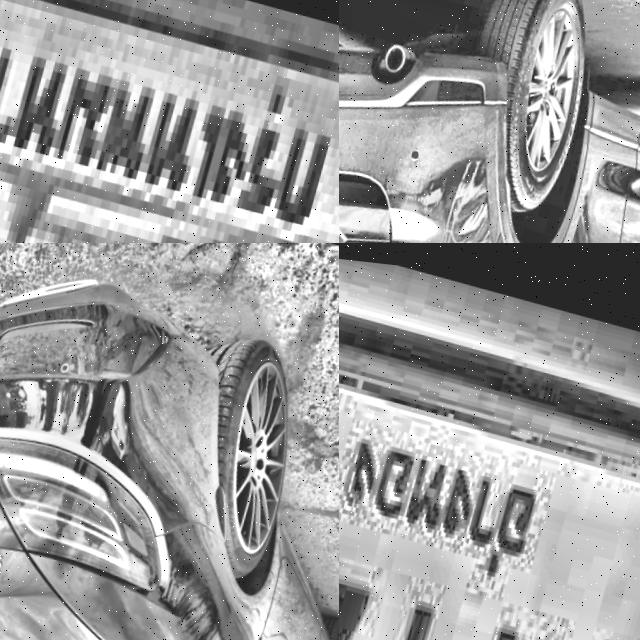license-plate: (339, 262, 640, 640), (0, 0, 339, 243)
